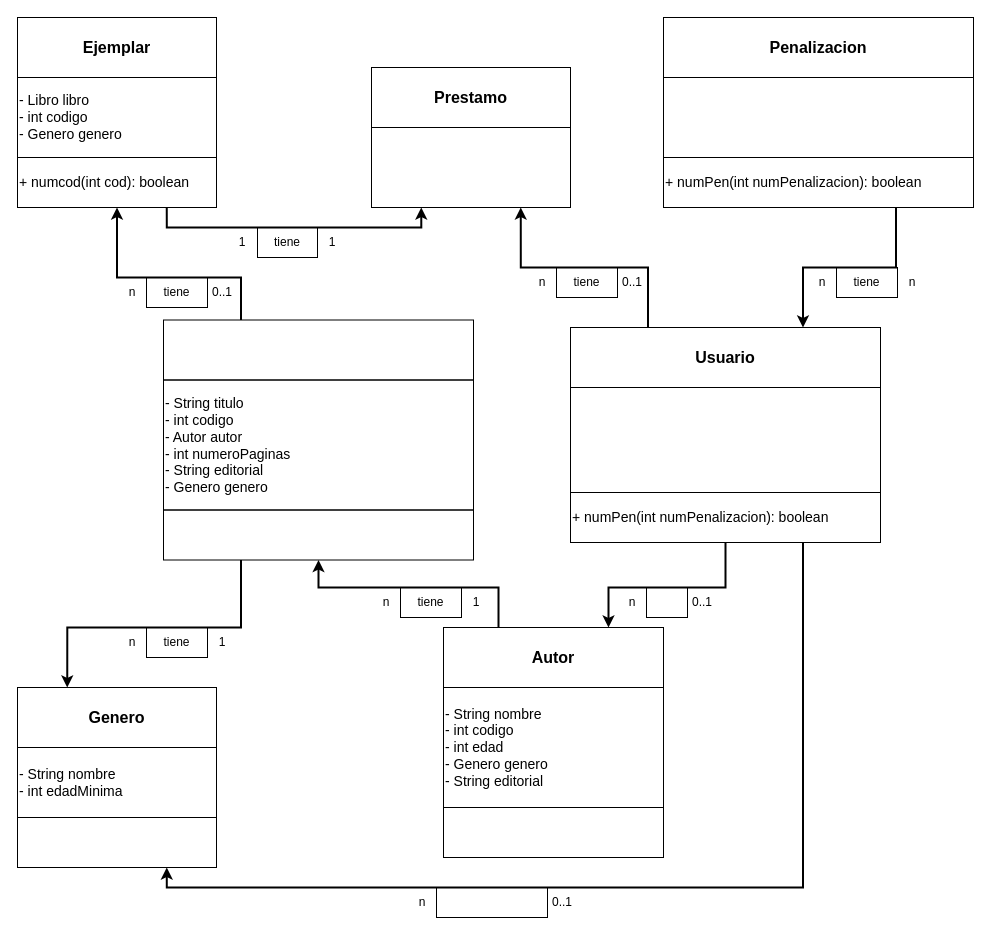
This 991x935 diagram has some shape labels left out. Here are the shapes that lost their labels. From the top down, the box of each, then its label:
(662, 76, 974, 158): - String gravedad - int numPena - Usuario usuario
(370, 126, 570, 208): - Usuario usuario - Libro libro - boolean activo
(162, 319, 474, 380): Libro
(570, 386, 880, 492): - String nombre - int edad - int numPenalizacion - Genero generoFav
(162, 509, 474, 560): + numeroDePaginas(int numPaginas): boolean
(646, 586, 688, 618): es
(16, 816, 216, 868): + edad(int edadMinima): boolean
(442, 806, 664, 858): + edadAutor(int edad): boolean
(436, 886, 548, 918): accede / busca
